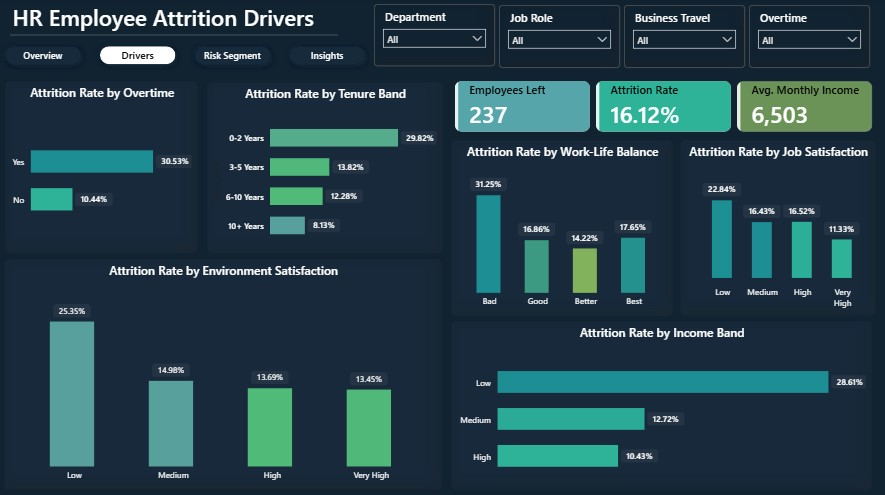

The dashboard page shown, as its layout file describes it:
{"tool":"powerbi","page":{"name":" Drivers","canvas":[1280,720],"ordinal":1},"visuals":[{"type":"cardVisual","fields":{"Data":["_Measures.Employees Left","_Measures.Attrition Rate","_Measures.Average Monthly Income"]},"box":[641.9,102.7,638,108.4],"z":0},{"type":"clusteredBarChart","title":"Attrition Rate by Overtime","fields":{"Category":["HR_Employee.overtime"],"Y":["_Measures.Attrition Rate"]},"box":[8.7,120,279,248.7],"z":1000},{"type":"clusteredColumnChart","title":"Attrition Rate by Work-Life Balance","fields":{"Category":["HR_Employee.work_life_balance_label"],"Y":["_Measures.Attrition Rate"]},"box":[653.5,205.3,321,255],"z":2000},{"type":"clusteredColumnChart","title":"Attrition Rate by Environment Satisfaction","fields":{"Category":["HR_Employee.environment_satisfaction_label"],"Y":["_Measures.Attrition Rate"]},"box":[7.2,377.3,633.3,334],"z":3000},{"type":"clusteredBarChart","title":" Attrition Rate by Tenure Band","fields":{"Category":["HR_Employee.tenure_band"],"Y":["_Measures.Attrition Rate"]},"box":[300.7,121.4,341.2,248],"z":4000},{"type":"textbox","box":[5.8,0,498.8,73.7],"z":5000},{"type":"shape","box":[15.9,43.4,474.2,20.2],"z":6000},{"type":"slicer","fields":{"Values":["HR_Employee.department"]},"box":[542.2,8.7,174.9,89.6],"z":7000},{"type":"slicer","fields":{"Values":["HR_Employee.job_role"]},"box":[722.9,10.1,174.9,91.1],"z":8000},{"type":"slicer","fields":{"Values":["HR_Employee.overtime"]},"box":[1084.3,10.1,174.9,91.1],"z":9000},{"type":"slicer","fields":{"Values":["HR_Employee.business_travel"]},"box":[903.6,10.1,174.9,91.1],"z":10000},{"type":"clusteredColumnChart","title":"Attrition Rate by Job Satisfaction","fields":{"Y":["_Measures.Attrition Rate"],"Category":["HR_Employee.job_satisfaction_label"]},"box":[984.6,205.3,283.4,254.5],"z":11000},{"type":"clusteredBarChart","title":"Attrition Rate by Income Band","fields":{"Category":["HR_Employee.income_band"],"Y":["_Measures.Attrition Rate"]},"box":[653.5,467,608.7,244.3],"z":12000},{"type":"pageNavigator","box":[0,60.7,540.7,44.8],"z":13000}]}

Visuals, with their boxes in screenshot pixels (x1, y1, x2, y2), scaled from the page's 1280x720 canvas onto the 885x495 screenshot:
cardVisual - _Measures.Employees Left x _Measures.Attrition Rate: 444, 71, 884, 145
"Attrition Rate by Overtime" clusteredBarChart: 6, 82, 199, 253
"Attrition Rate by Work-Life Balance" clusteredColumnChart: 452, 141, 674, 316
"Attrition Rate by Environment Satisfaction" clusteredColumnChart: 5, 259, 443, 489
" Attrition Rate by Tenure Band" clusteredBarChart: 208, 83, 444, 254
textbox: 4, 0, 349, 51
shape: 11, 30, 339, 44
slicer - HR_Employee.department: 375, 6, 496, 68
slicer - HR_Employee.job_role: 500, 7, 621, 70
slicer - HR_Employee.overtime: 750, 7, 871, 70
slicer - HR_Employee.business_travel: 625, 7, 746, 70
"Attrition Rate by Job Satisfaction" clusteredColumnChart: 681, 141, 877, 316
"Attrition Rate by Income Band" clusteredBarChart: 452, 321, 873, 489
pageNavigator: 0, 42, 374, 73
